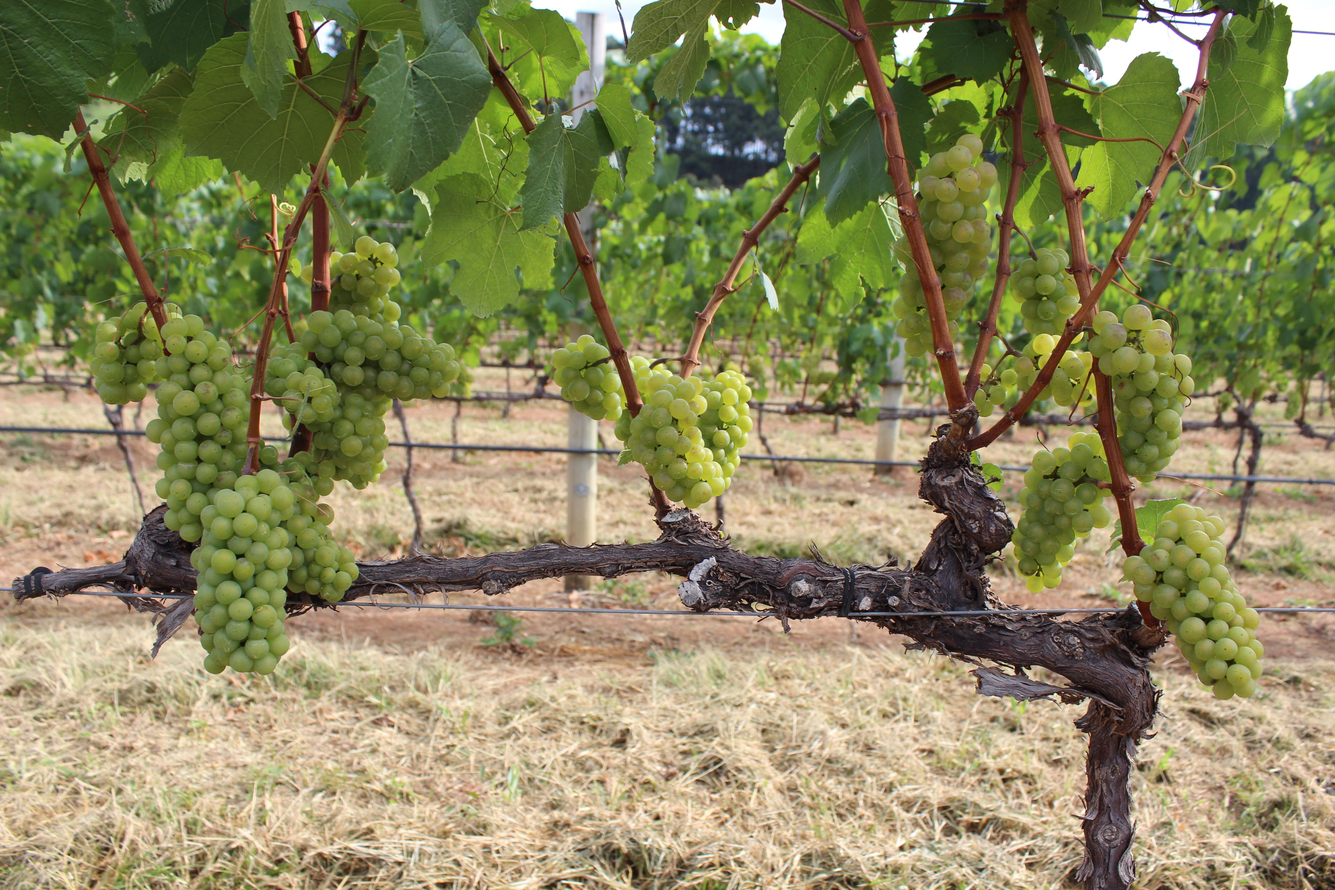leaf: (179, 34, 333, 193), (364, 22, 491, 191), (422, 173, 554, 316), (1077, 53, 1180, 216), (1187, 7, 1291, 167), (0, 0, 114, 139), (776, 5, 860, 123), (817, 97, 890, 227), (136, 0, 250, 71), (242, 0, 295, 117), (626, 0, 718, 62), (925, 18, 1014, 81), (653, 18, 710, 100), (890, 76, 935, 168), (348, 0, 422, 38), (305, 58, 348, 105), (334, 130, 364, 181), (811, 0, 842, 20), (256, 0, 259, 2), (372, 118, 373, 119), (347, 54, 350, 54)
